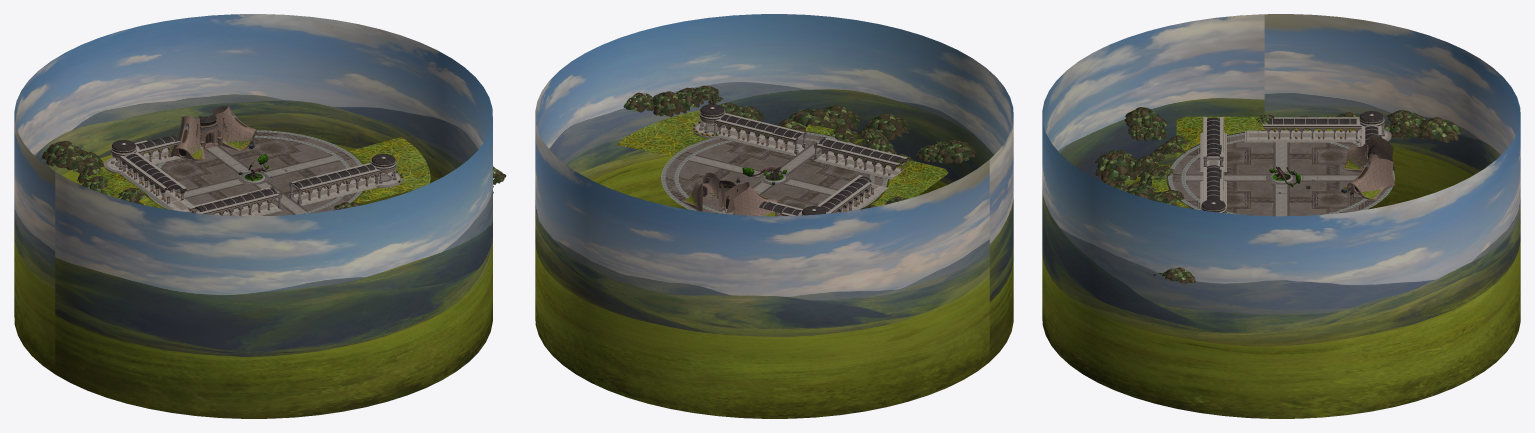
File: env_pab_colonnade_pre.glb
3 views of the same model, side by side, from view 1: azimuth 30°, elevation 25°; view 2: azimuth 150°, elevation 25°; view 3: azimuth 270°, elevation 25° (orthographic).
Parts seen in each view (by area): view 1: brac_skycyllinder_mesh, pab_colonnade_ground_01, pab_colonnade_ground_02, pab_colonnade_grass, pab_colonnade_tower, gen_canopy_01b_prefab; view 2: brac_skycyllinder_mesh, pab_colonnade_ground_01, pab_colonnade_grass, pab_colonnade_ground_02, gen_canopy_01b_prefab (×5), pab_colonnade_tower, gen_canopy_01b_prefab (2); view 3: brac_skycyllinder_mesh, pab_colonnade_ground_01, pab_colonnade_ground_02, pab_colonnade_tower, gen_canopy_01b_prefab (×3), pab_colonnade_grass, gen_canopy_01b_prefab (2), gen_canopy_01b_prefab (1).
Boxes of the visible parts, <box> form: brac_skycyllinder_mesh: <box>14,14,492,418</box>; pab_colonnade_ground_01: <box>160,137,346,215</box>; pab_colonnade_ground_02: <box>147,130,362,214</box>; pab_colonnade_grass: <box>86,137,430,208</box>; pab_colonnade_tower: <box>168,106,256,160</box>; gen_canopy_01b_prefab: <box>42,141,83,168</box>; brac_skycyllinder_mesh: <box>535,14,1013,418</box>; pab_colonnade_ground_01: <box>678,138,870,215</box>; pab_colonnade_grass: <box>616,111,948,206</box>; pab_colonnade_ground_02: <box>661,131,887,214</box>; gen_canopy_01b_prefab (×5): <box>623,91,975,164</box>; pab_colonnade_tower: <box>683,172,777,216</box>; gen_canopy_01b_prefab (2): <box>863,113,911,139</box>; brac_skycyllinder_mesh: <box>1042,14,1520,418</box>; pab_colonnade_ground_01: <box>1186,140,1363,216</box>; pab_colonnade_ground_02: <box>1168,130,1394,216</box>; pab_colonnade_tower: <box>1343,134,1394,199</box>; gen_canopy_01b_prefab (×3): <box>1125,107,1460,142</box>; pab_colonnade_grass: <box>1152,116,1354,208</box>; gen_canopy_01b_prefab (2): <box>1095,150,1139,182</box>; gen_canopy_01b_prefab (1): <box>1138,165,1175,196</box>.
Size of the model in its own units: 380 by 178 by 380.
Materials: 36 (36 with a texture image).
